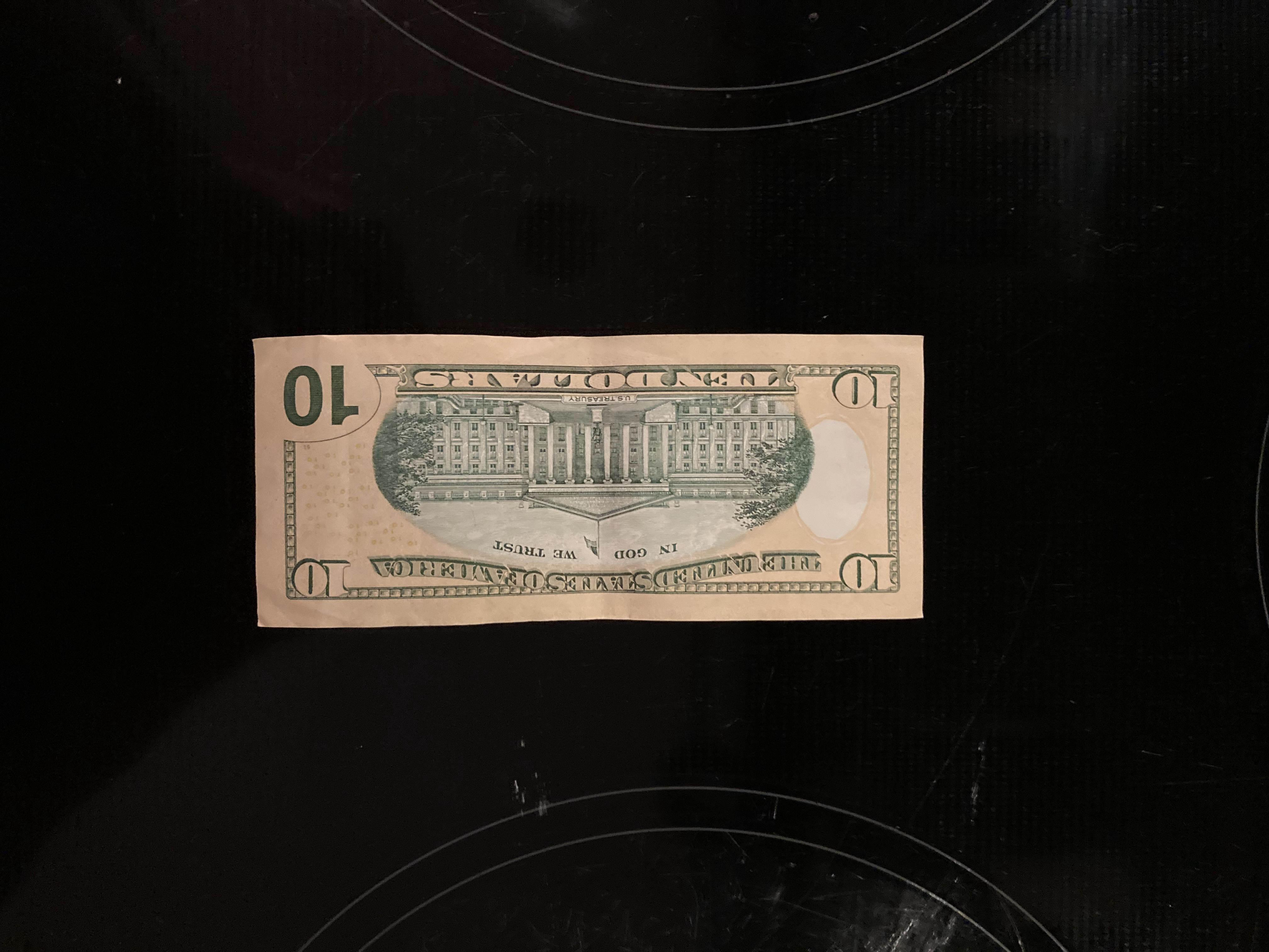ten-back: (252, 332, 929, 631)
